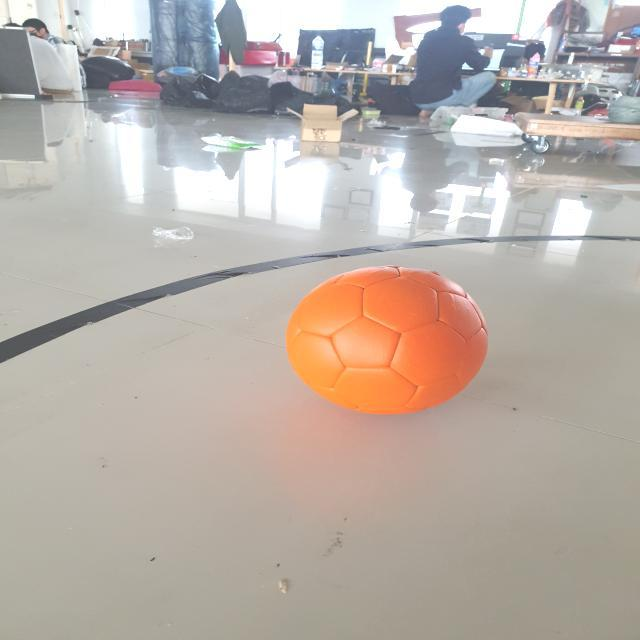bola: (282, 262, 496, 422)
